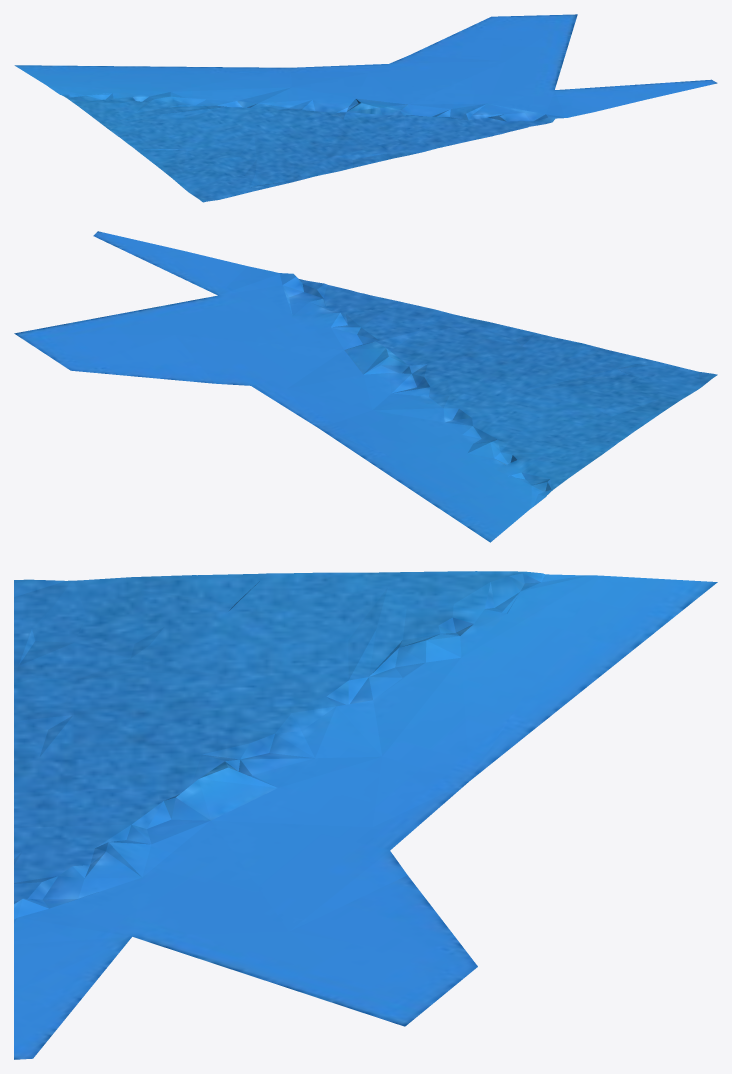
The picture shows the model from 3 angles, top to bottom: view 1: azimuth 30°, elevation 25°; view 2: azimuth 150°, elevation 25°; view 3: azimuth 270°, elevation 25°; orthographic projection. The views are drawn at different scales.
Size of the model in its own units: 12.08 by 0.3126 by 7.68.
Materials: 1 (1 with a texture image).
